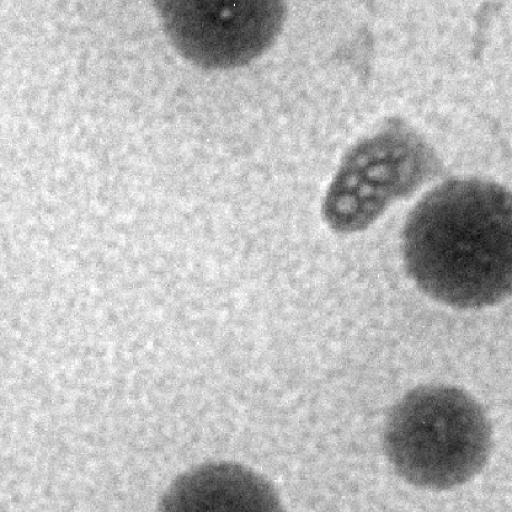Nanoparticles: (401, 172, 512, 317), (378, 382, 492, 495), (149, 0, 287, 72), (154, 457, 285, 511)
